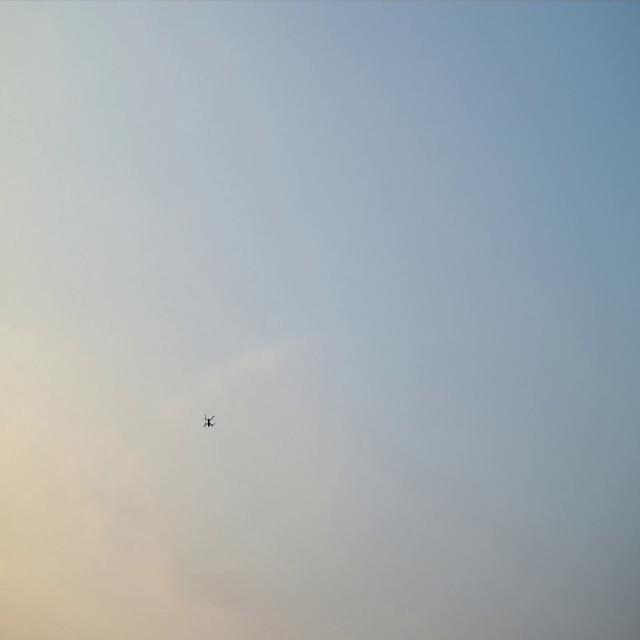UAV: (205, 418, 213, 426)
